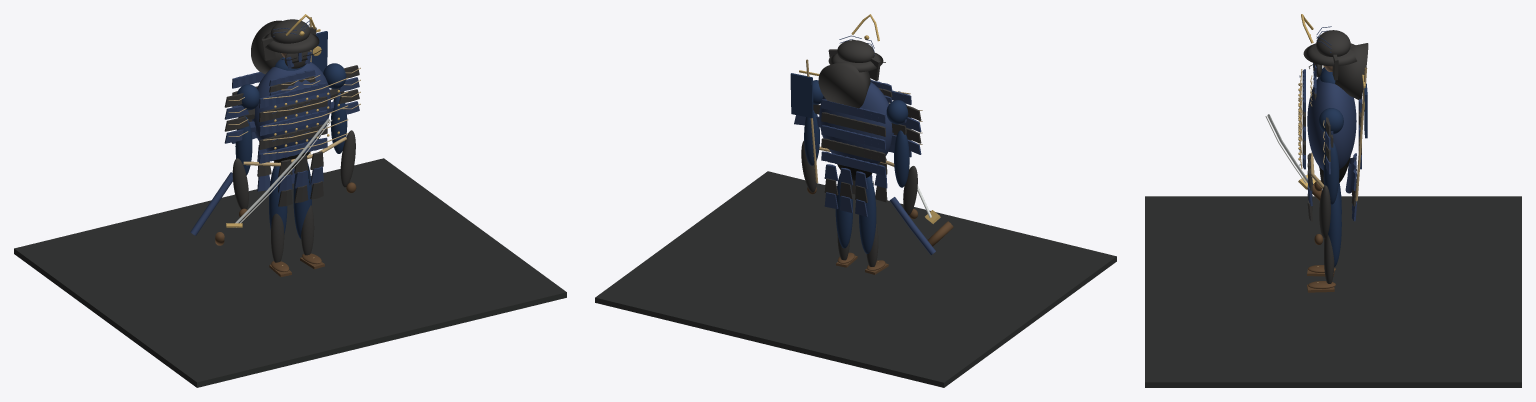
Rendered from actor-uesugi-01.glb.
3 views of the same model, side by side, from view 1: azimuth 30°, elevation 25°; view 2: azimuth 150°, elevation 25°; view 3: azimuth 270°, elevation 25° (orthographic). The views are drawn at different scales.
Visible parts, largest first — view 1: matte charcoal inspection plinth, rounded do cuirass silhouette, rear shikoro neck guard flare, segmented kabuto helmet bowl, right armored upper arm, right kote forearm guard, left kote forearm guard, wide kabuto brim, left hakama trouser leg, right hakama trouser leg, left armored upper arm, left shin greave (+2 smaller); view 2: matte charcoal inspection plinth, rear shikoro neck guard flare, rounded do cuirass silhouette, cloth sashimono banner panel, left hakama trouser leg, left armored upper arm, segmented kabuto helmet bowl, right hakama trouser leg, right armored upper arm, left kote forearm guard, lacquered saya scabbard at left hip; view 3: matte charcoal inspection plinth, rounded do cuirass silhouette, rear shikoro neck guard flare, segmented kabuto helmet bowl, right hakama trouser leg, wide kabuto brim, right armored upper arm, right kote forearm guard, right shoulder undercloth, right shin greave, bamboo sashimono back pole.
Boxes of the visible parts, box(x1,y1,x2,y2) form: matte charcoal inspection plinth: box(14, 158, 566, 387); rounded do cuirass silhouette: box(252, 62, 330, 151); rear shikoro neck guard flare: box(251, 20, 283, 74); segmented kabuto helmet bowl: box(270, 19, 310, 43); right armored upper arm: box(331, 93, 347, 153); right kote forearm guard: box(340, 130, 355, 187); left kote forearm guard: box(232, 158, 248, 209); wide kabuto brim: box(261, 33, 319, 53); left hakama trouser leg: box(269, 166, 287, 234); right hakama trouser leg: box(293, 163, 311, 239); left armored upper arm: box(235, 116, 252, 175); left shin greave: box(271, 213, 284, 262); matte charcoal inspection plinth: box(595, 171, 1116, 387); rear shikoro neck guard flare: box(818, 61, 870, 108); rounded do cuirass silhouette: box(819, 82, 893, 164); cloth sashimono banner panel: box(790, 73, 813, 118); left hakama trouser leg: box(859, 176, 876, 253); left armored upper arm: box(894, 130, 909, 187); segmented kabuto helmet bowl: box(837, 40, 874, 62); right hakama trouser leg: box(835, 173, 852, 248); right armored upper arm: box(804, 110, 819, 165); left kote forearm guard: box(903, 166, 917, 215); lacquered saya scabbard at left hip: box(889, 197, 935, 254); matte charcoal inspection plinth: box(1145, 196, 1521, 387); rounded do cuirass silhouette: box(1307, 76, 1356, 170); rear shikoro neck guard flare: box(1335, 43, 1368, 99); segmented kabuto helmet bowl: box(1316, 30, 1350, 56); right hakama trouser leg: box(1328, 189, 1341, 267); wide kabuto brim: box(1303, 43, 1356, 66); right armored upper arm: box(1323, 142, 1339, 204); right kote forearm guard: box(1319, 185, 1330, 238); right shoulder undercloth: box(1319, 108, 1343, 134); right shin greave: box(1324, 234, 1334, 283); bamboo sashimono back pole: box(1355, 67, 1367, 201).
Bounding box in the file's own units: 4.2 × 2.96 × 3.6.
